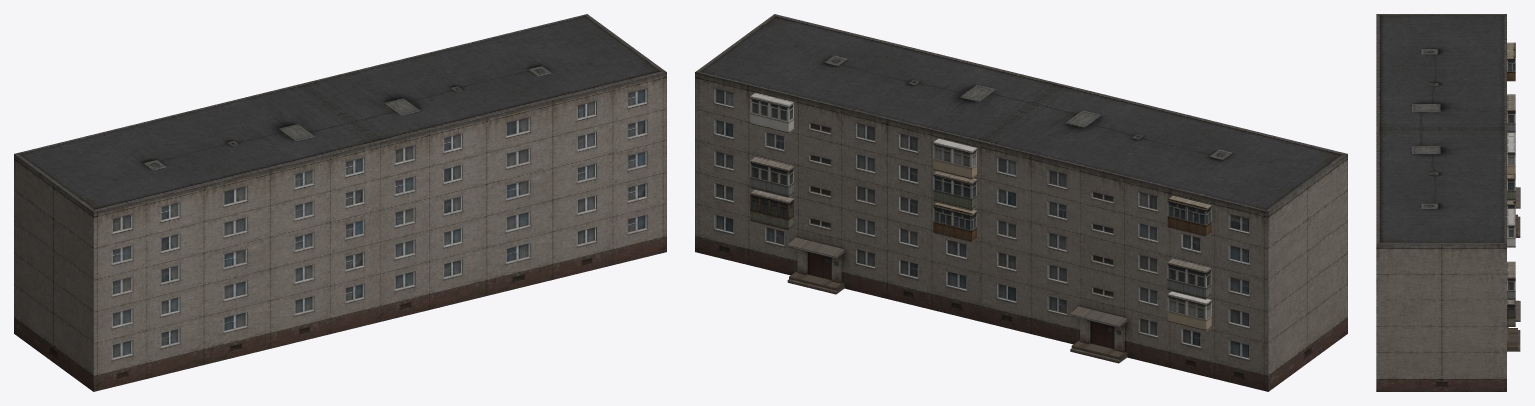
Rendered from SM_PanelHousingExterior.glb.
The picture shows the model from 3 angles, left to right: view 1: azimuth 30°, elevation 25°; view 2: azimuth 150°, elevation 25°; view 3: azimuth 270°, elevation 25°; orthographic projection. The views are drawn at different scales.
Visible parts, largest first — view 1: SM_PanelHousingExterior; view 2: SM_PanelHousingExterior; view 3: SM_PanelHousingExterior.
Boxes of the visible parts, bbox=[...] form: SM_PanelHousingExterior: bbox=[14, 14, 666, 391]; SM_PanelHousingExterior: bbox=[695, 14, 1347, 391]; SM_PanelHousingExterior: bbox=[1376, 14, 1520, 391].
Bounding box in the file's own units: 36 × 10.8 × 9.55.
2 materials, 2 textured.
